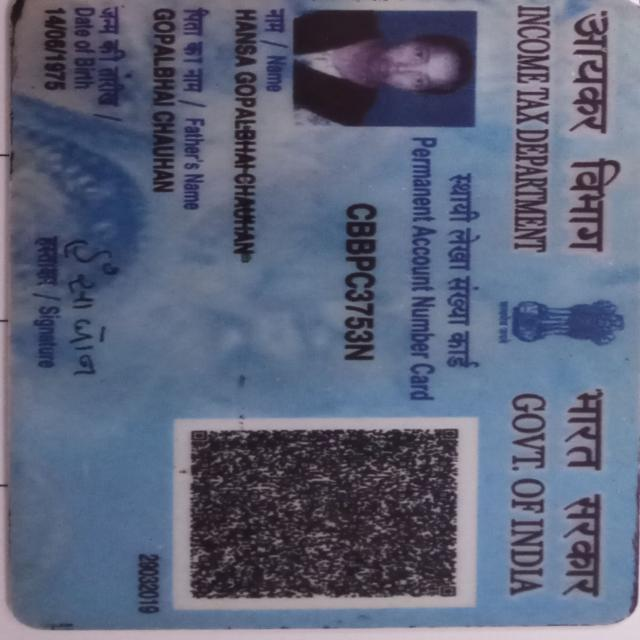pan_card: (16, 1, 639, 625)
